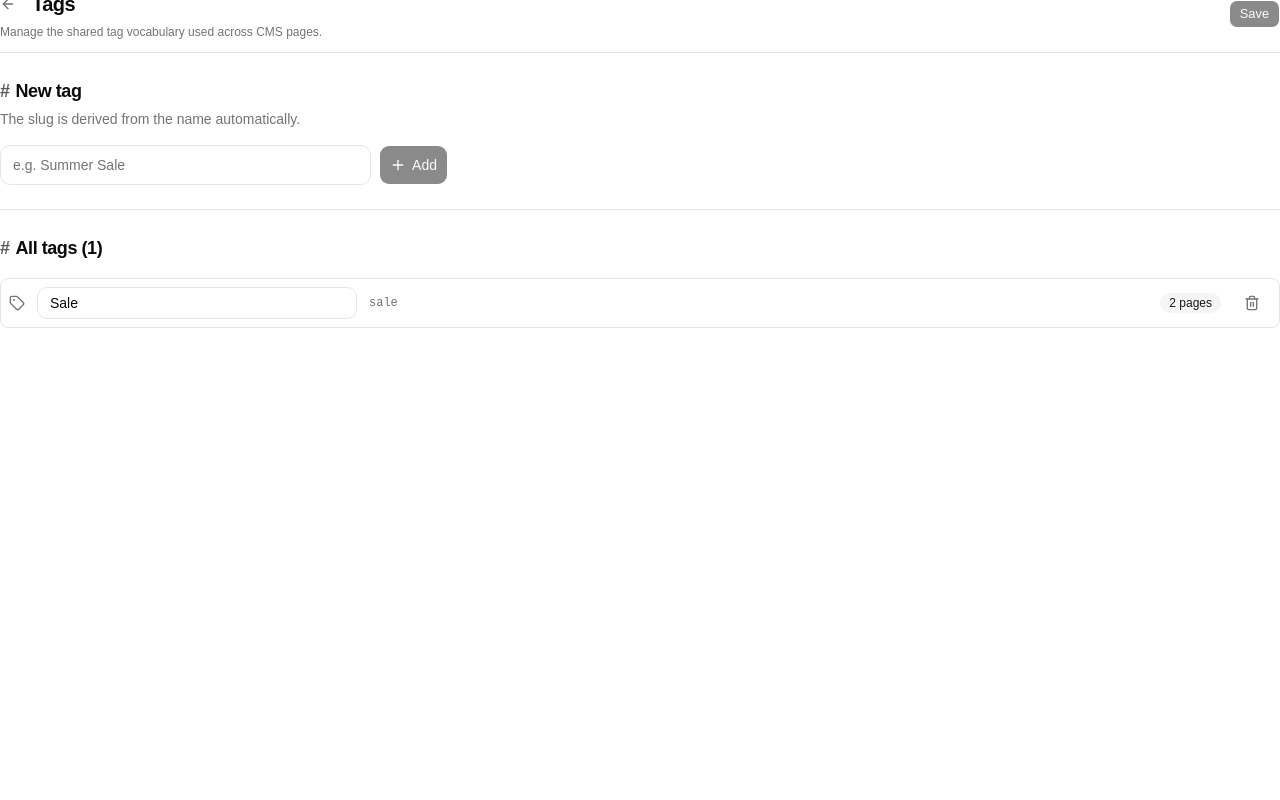
Scenario: CMS library deletes › closes a tag delete at once and sends it
Click the button named "Delete Sale" at (1252, 303), box [1233,289,1271,317]
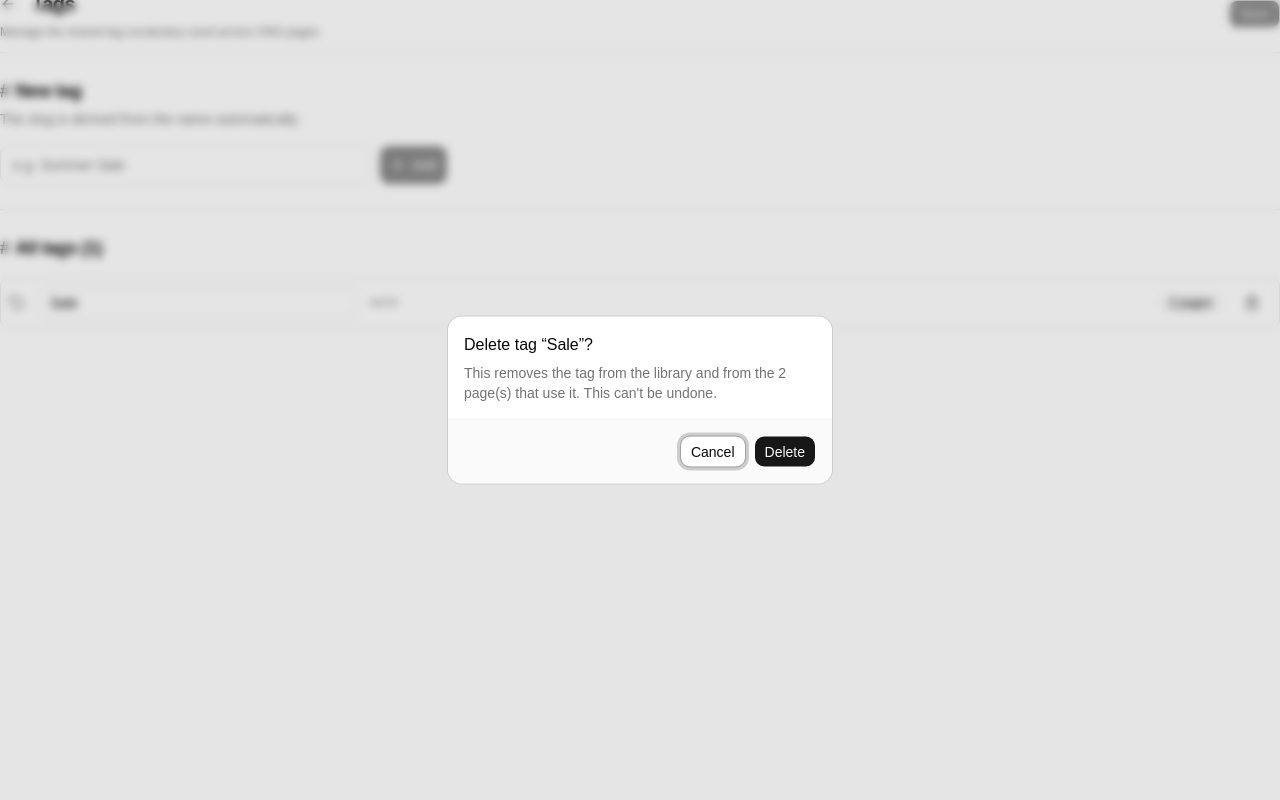
Click the button "Delete" at (785, 452), box [754,436,816,468]
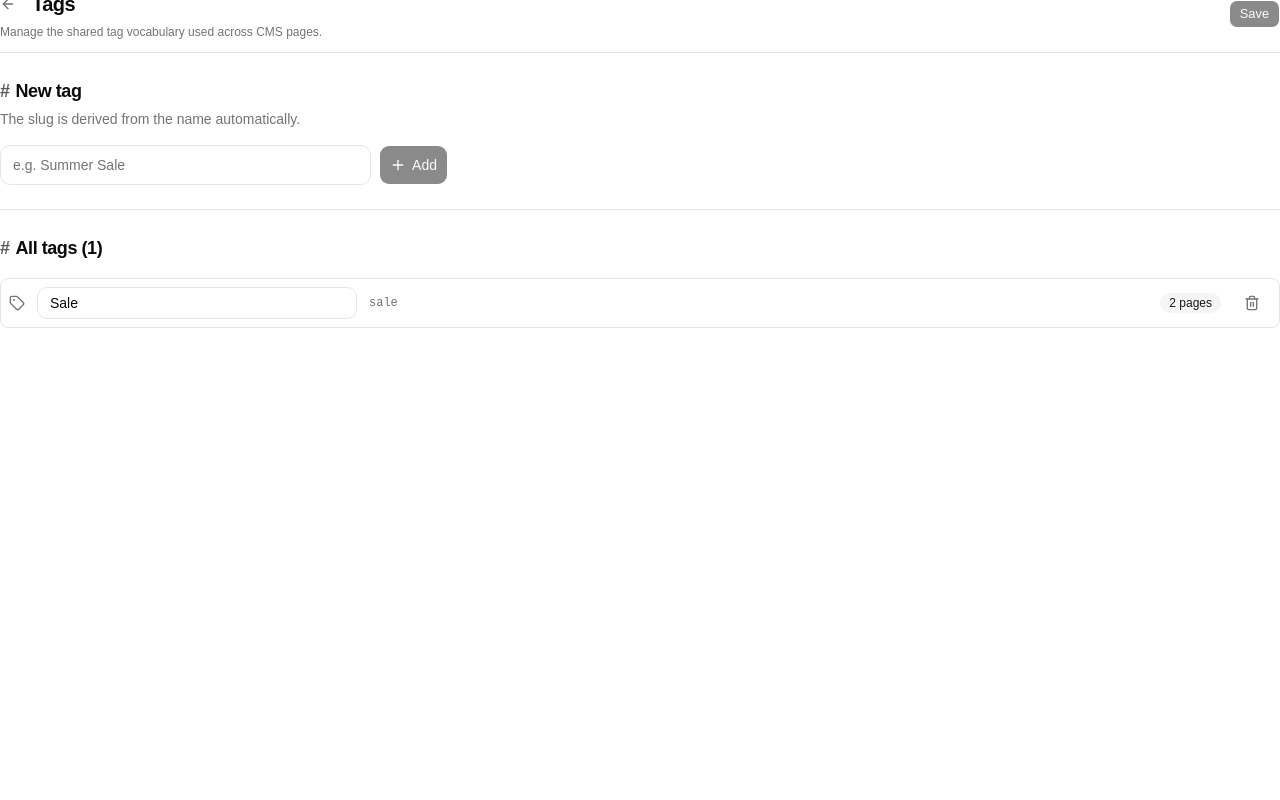
Expected: the dialog is gone
